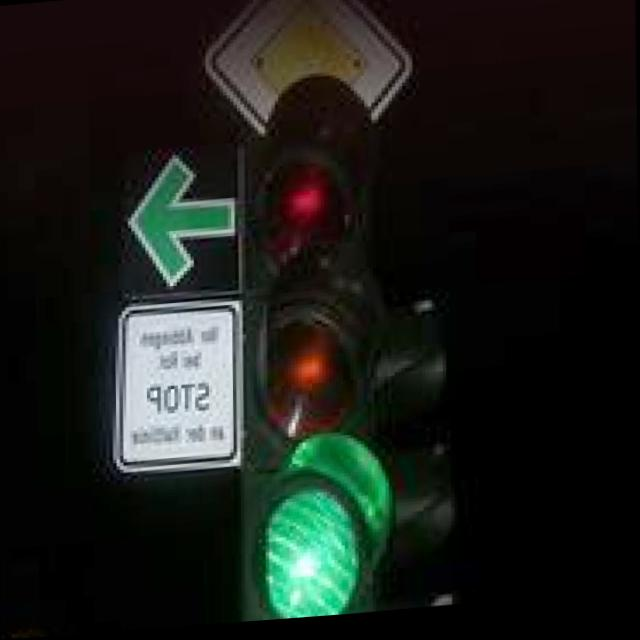green_light: (183, 401, 451, 629)
